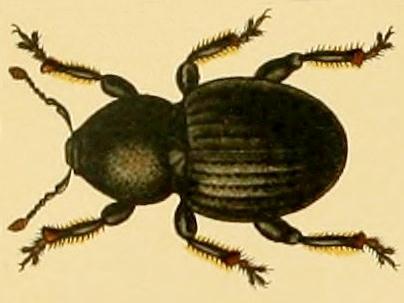dolgonosik: (8, 23, 402, 281)
